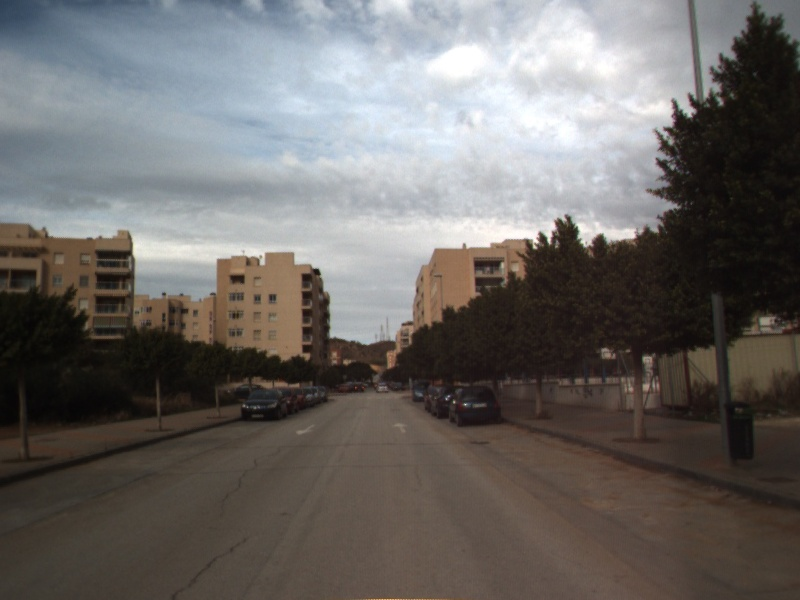STRAIGHT: (390, 420, 412, 435)
